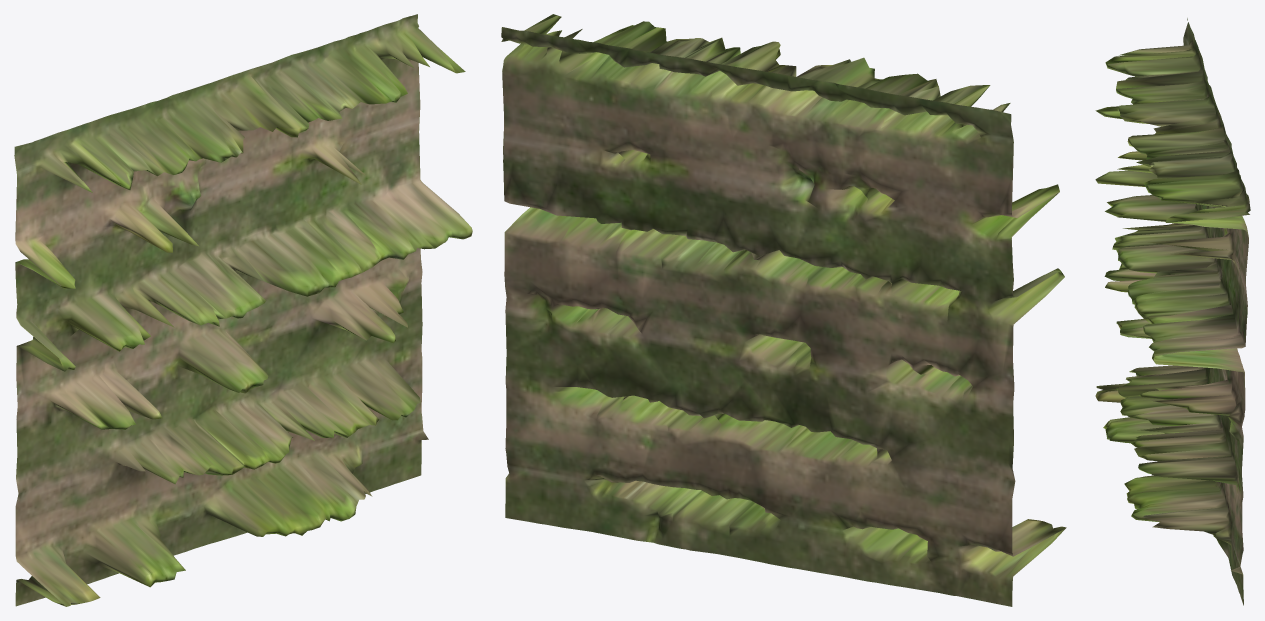
Rendered from map_120_50.obj.
3 renders of one model, left to right at view 1: azimuth 30°, elevation 25°; view 2: azimuth 150°, elevation 25°; view 3: azimuth 270°, elevation 25°, orthographic. The views are drawn at different scales.
Parts seen in each view (by area): view 1: map_120_50.obj; view 2: map_120_50.obj; view 3: map_120_50.obj.
Boxes of the visible parts, bbox=[...] form: map_120_50.obj: bbox=[14, 14, 472, 606]; map_120_50.obj: bbox=[501, 14, 1066, 606]; map_120_50.obj: bbox=[1095, 18, 1250, 605].
Bounding box in the file's own units: 10 × 10 × 3.48.
1 material, 1 textured.
